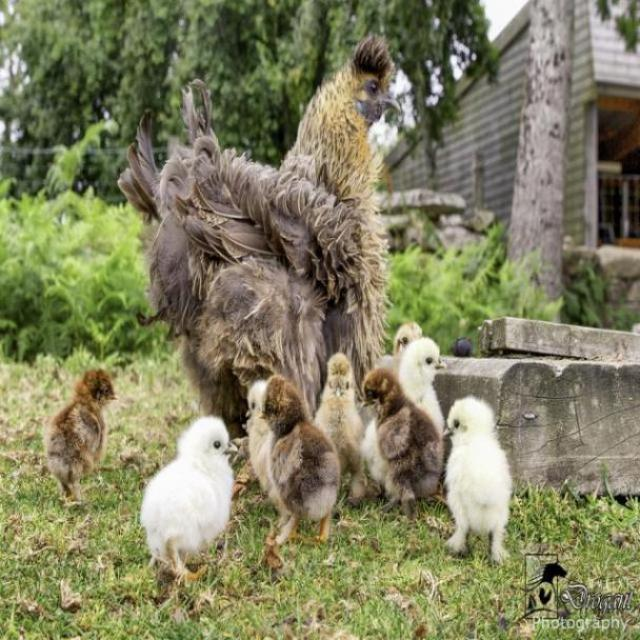Chicken: (117, 37, 407, 491), (140, 412, 237, 591)
